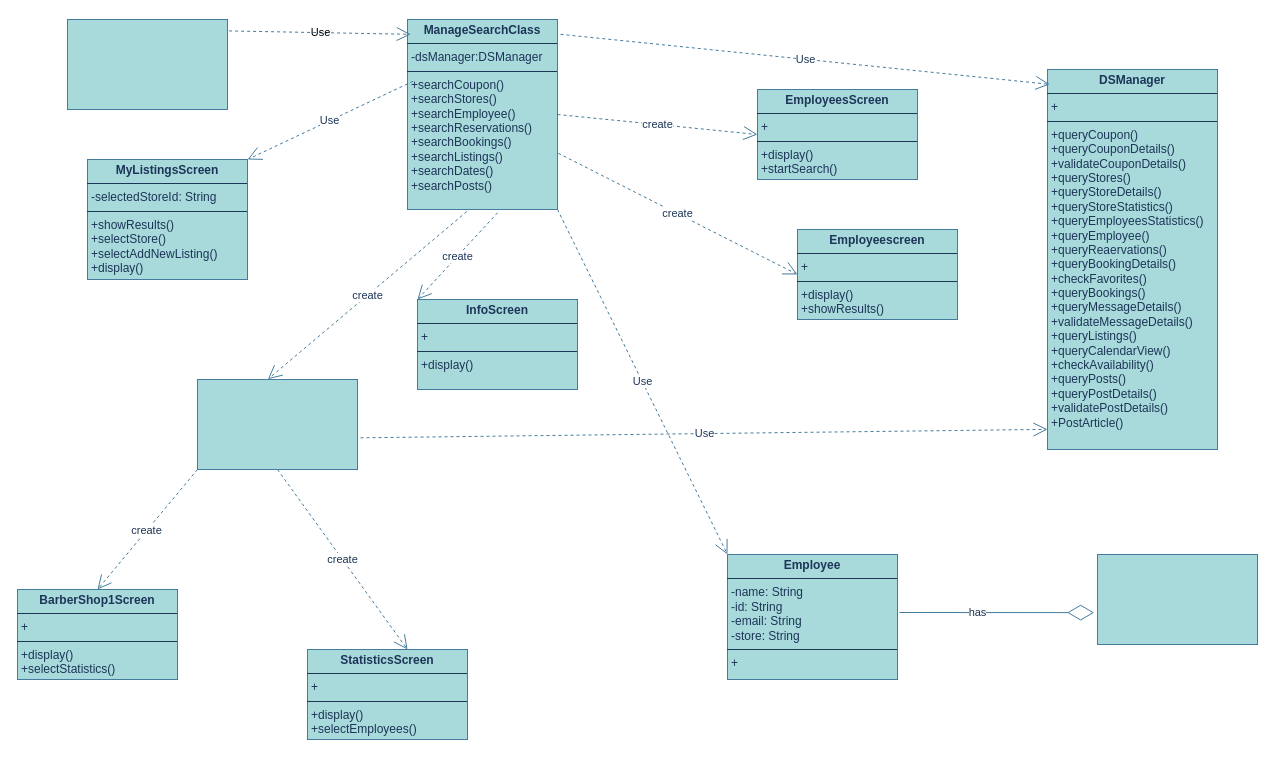
This 1275x757 diagram has some shape labels left out. Here are the shapes that lost their labels. From the top down, the centre of each, then its label:
At pixel 147 64: "DashBoardScreen + +display() +startSearch()".
At pixel 277 424: "ManageBarberShop1Class -dsManager:DSManager + ManageBarberShop1()".
At pixel 1177 599: "Statistics + +".
